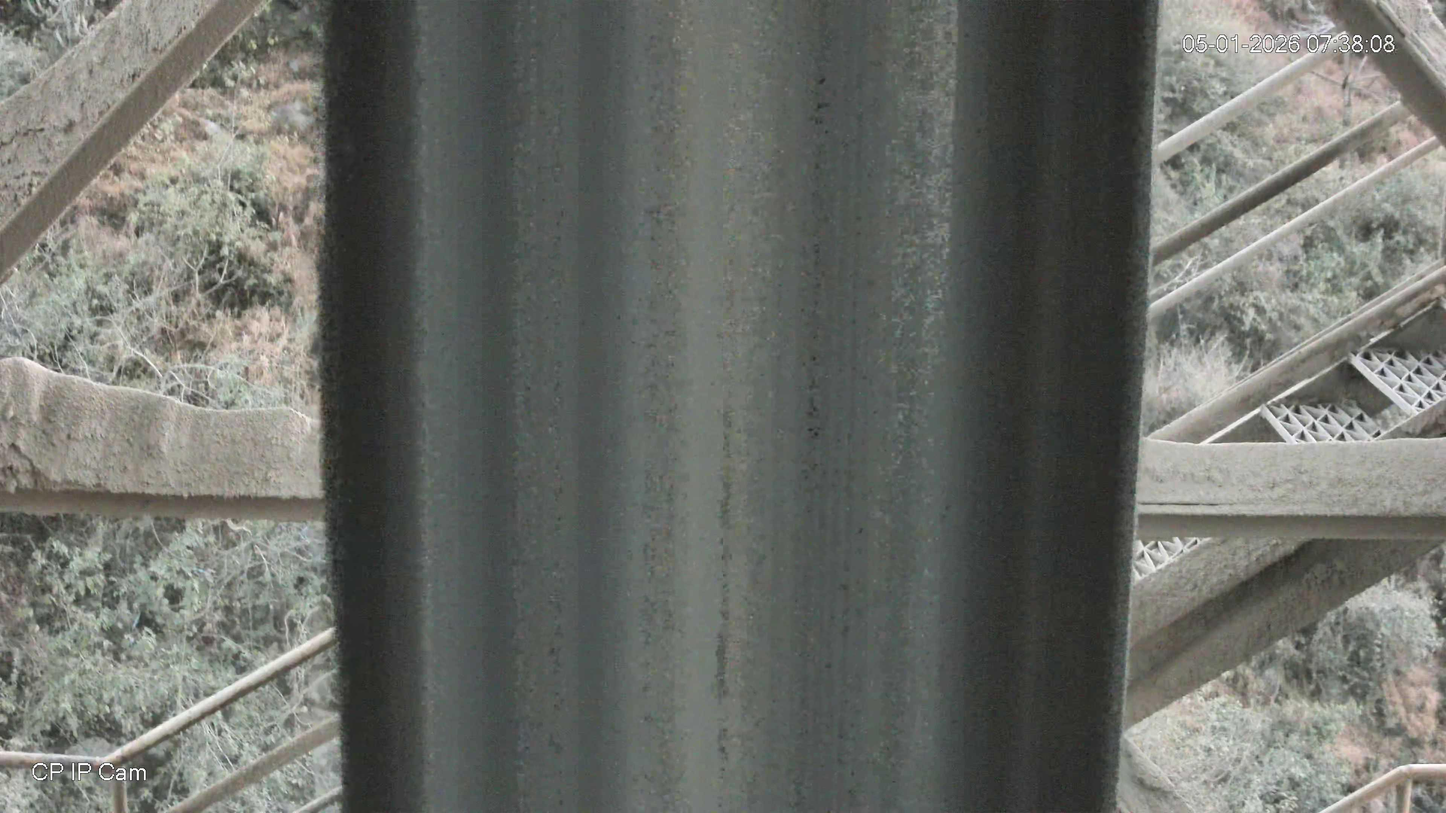belt_roi: (323, 0, 1158, 813)
